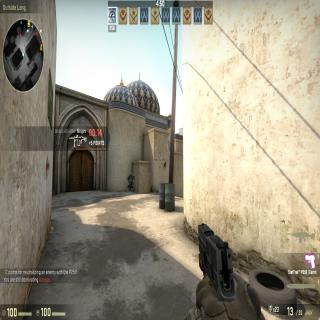T-Body: (127, 170, 133, 188)
T-Head: (130, 171, 132, 176)
